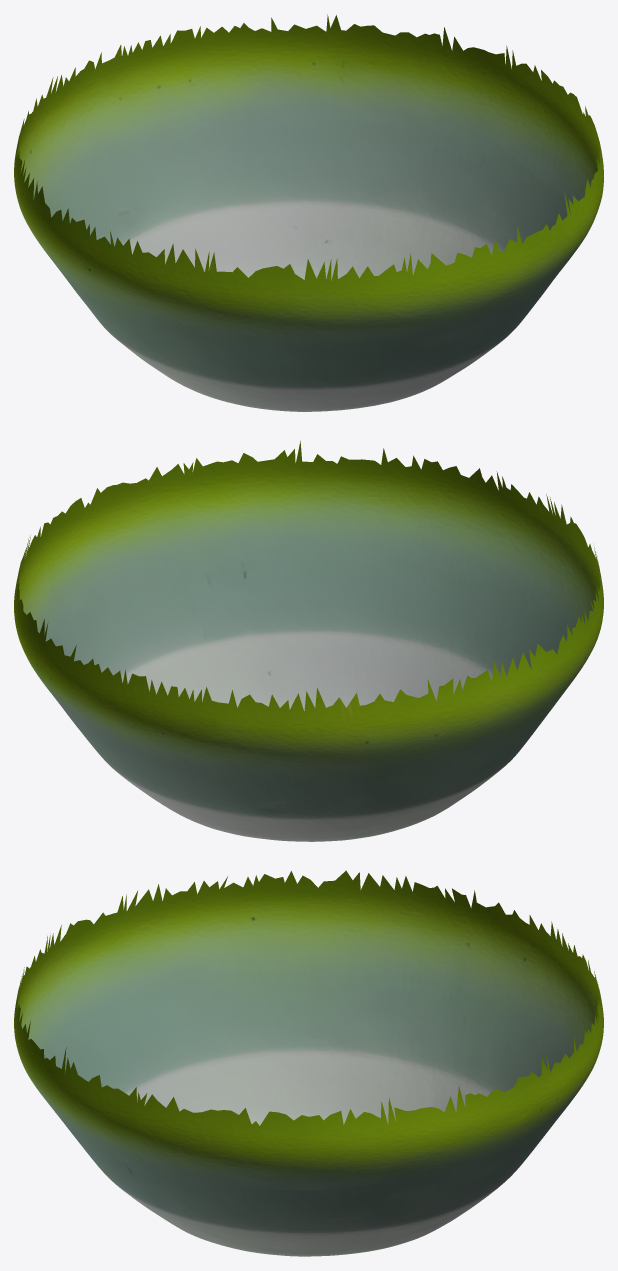
File: matcha_base.obj
3 views of the same model, one above another, from view 1: azimuth 30°, elevation 25°; view 2: azimuth 150°, elevation 25°; view 3: azimuth 270°, elevation 25° (orthographic).
Visible parts, largest first — view 1: matcha_base; view 2: matcha_base; view 3: matcha_base.
Part boxes in pixels (bbox=[...]): matcha_base: bbox=[14, 14, 603, 411]; matcha_base: bbox=[14, 440, 603, 841]; matcha_base: bbox=[14, 870, 603, 1256].
Bounding box in the file's own units: 0.8463 × 0.3426 × 0.8652.
1 material, 1 textured.
